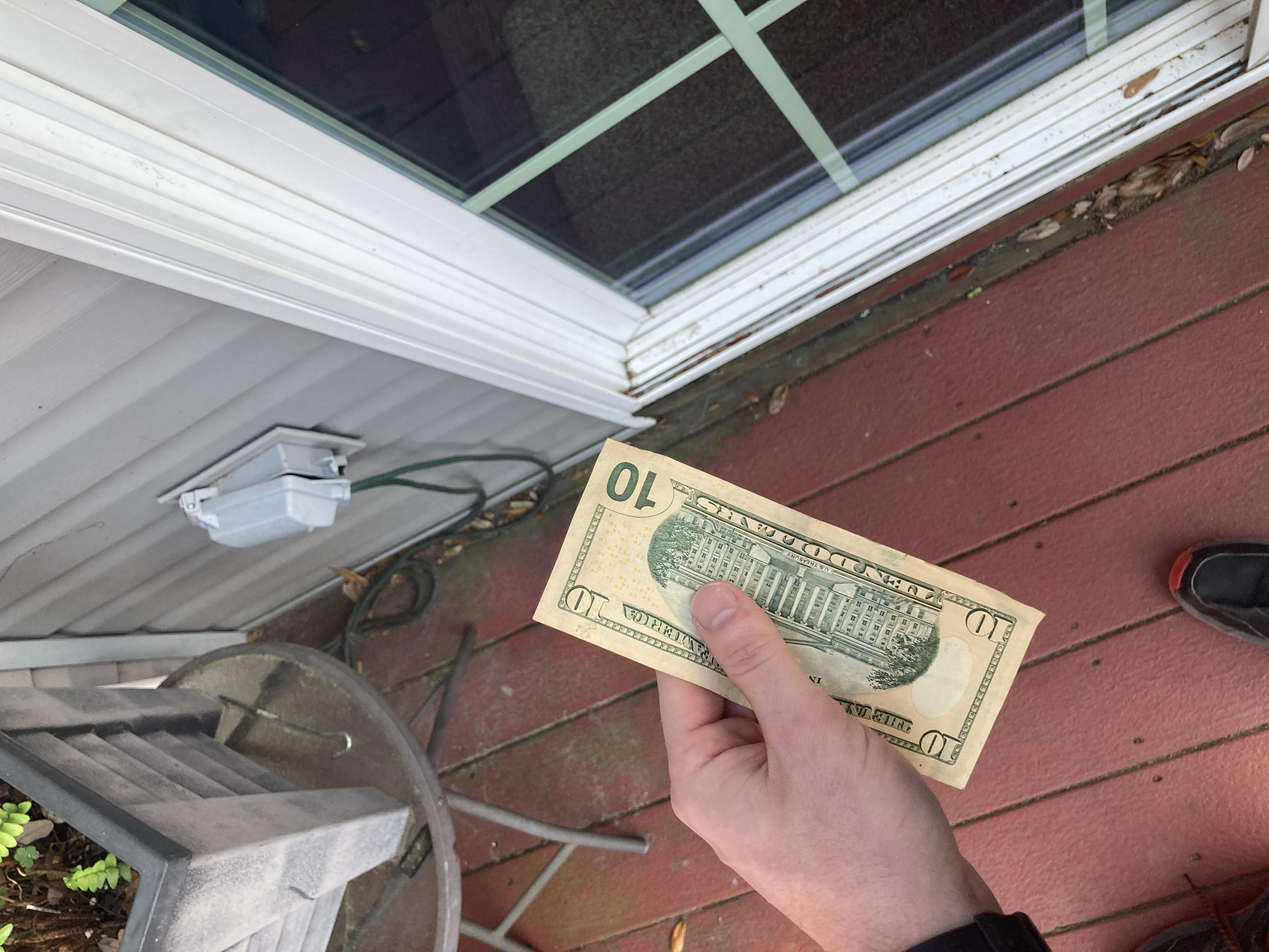ten-back: (213, 399, 692, 786)
